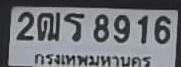1: (137, 14, 147, 43)
2: (15, 11, 33, 40)
6: (154, 15, 170, 43)
8: (93, 13, 108, 41)
9: (113, 14, 129, 42)
A18: (36, 11, 58, 40)
A35: (63, 12, 84, 41)
BKK: (32, 50, 152, 67)
